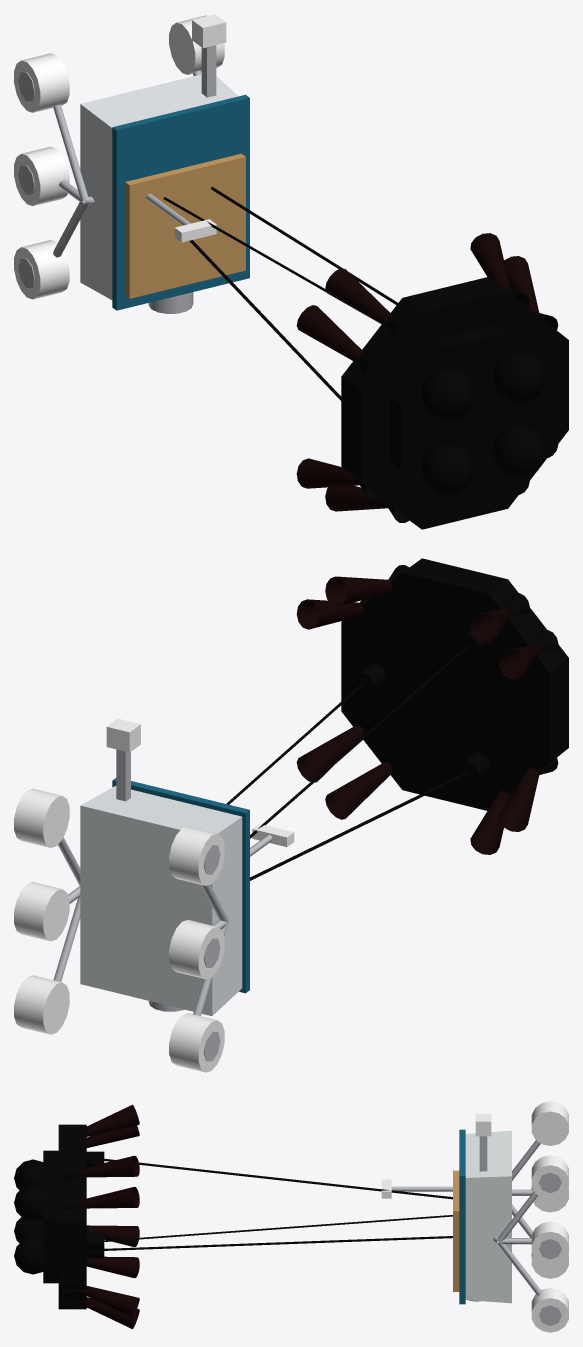
Rendered from lander_sky_crane.fbx.
3 renders of one model, top to bottom at view 1: azimuth 30°, elevation 25°; view 2: azimuth 150°, elevation 25°; view 3: azimuth 270°, elevation 25°, orthographic. The views are drawn at different scales.
Visible parts, largest first — view 1: lander_sky_crane_descent_stage_LOD0, lander_sky_crane_rover_LOD0; view 2: lander_sky_crane_descent_stage_LOD0, lander_sky_crane_rover_LOD0; view 3: lander_sky_crane_descent_stage_LOD0, lander_sky_crane_rover_LOD0.
Part boxes in pixels (x1,y1,x2,y2): lander_sky_crane_descent_stage_LOD0: (163,187,568,529); lander_sky_crane_rover_LOD0: (14,14,249,313); lander_sky_crane_descent_stage_LOD0: (226,558,568,880); lander_sky_crane_rover_LOD0: (14,718,294,1072); lander_sky_crane_descent_stage_LOD0: (14,1104,452,1329); lander_sky_crane_rover_LOD0: (381,1101,568,1332).
Size of what is drawn, in the model's own units: 2.97 by 3.46 by 8.71.
